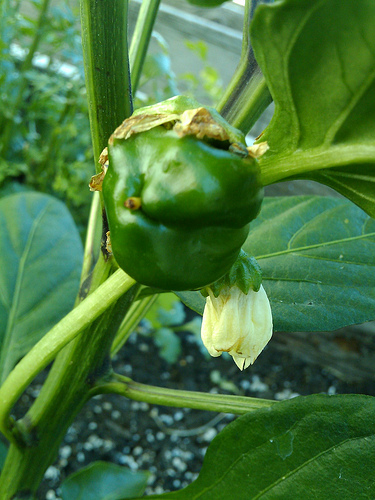capsicum: (97, 91, 262, 291)
